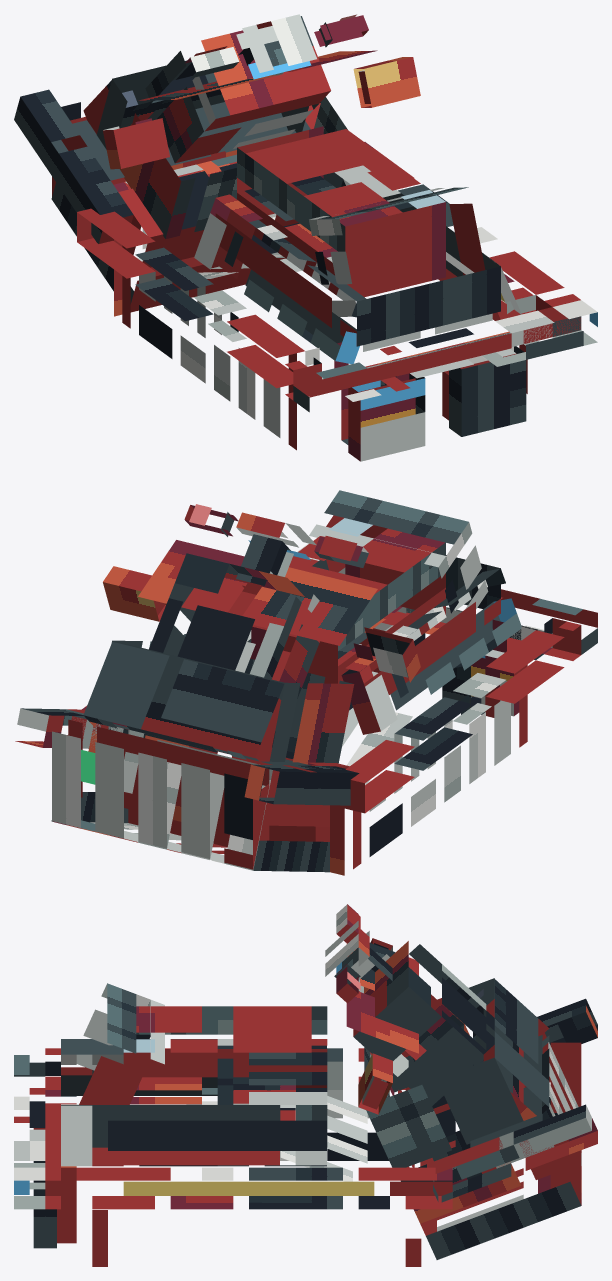
File: jetski.glb
The picture shows the model from 3 angles, top to bottom: view 1: azimuth 30°, elevation 25°; view 2: azimuth 150°, elevation 25°; view 3: azimuth 270°, elevation 25°; orthographic projection. The views are drawn at different scales.
Parts seen in each view (by area): view 1: root; view 2: root; view 3: root.
Part boxes in pixels (left/top/right/bottom): root: left=14, top=14, right=597, bottom=461; root: left=15, top=490, right=597, bottom=875; root: left=14, top=904, right=597, bottom=1266.
Bounding box in the file's own units: 1.3 × 1.23 × 2.33.
Materials: 1 (1 with a texture image).
